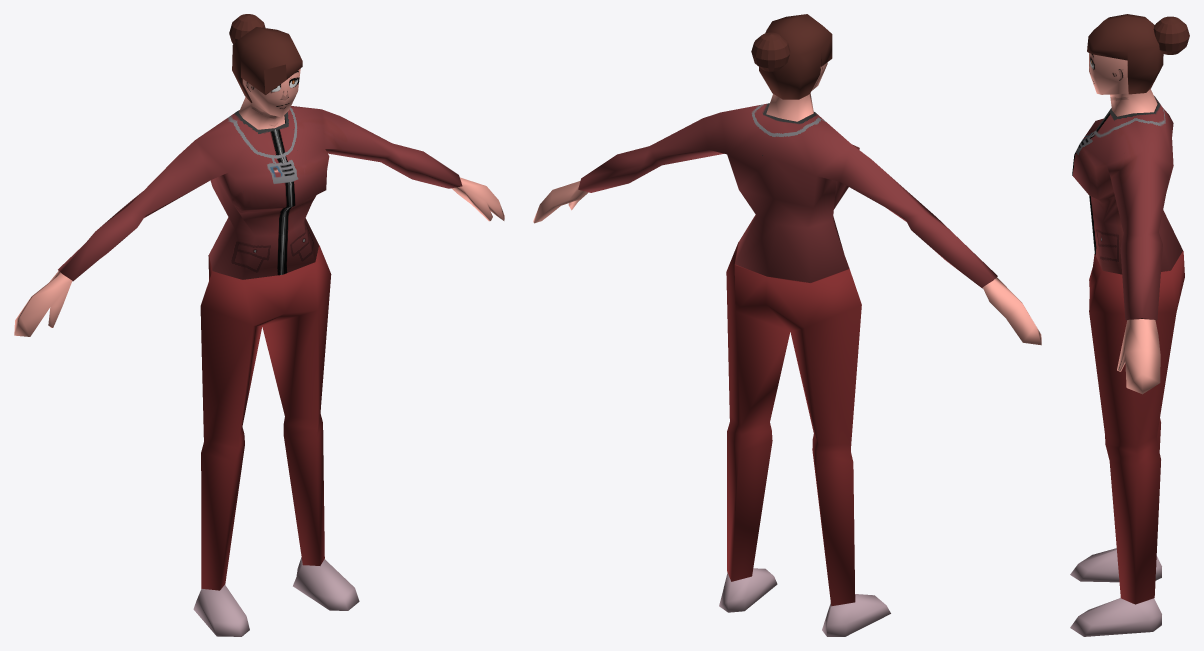
The model's file is Character attempt Female 1.fbx.
3 renders of one model, left to right at view 1: azimuth 30°, elevation 25°; view 2: azimuth 150°, elevation 25°; view 3: azimuth 270°, elevation 25°, orthographic. The views are drawn at different scales.
Parts seen in each view (by area): view 1: HumanoidBase_NotOverlapping.006, HumanoidBase_NotOverlapping.007, HumanoidBase_NotOverlapping.002, Shoes.003, HumanoidBase_NotOverlapping.008; view 2: HumanoidBase_NotOverlapping.006, HumanoidBase_NotOverlapping.007, HumanoidBase_NotOverlapping.008, HumanoidBase_NotOverlapping.002, Shoes.003, Sphere.003; view 3: HumanoidBase_NotOverlapping.006, HumanoidBase_NotOverlapping.007, HumanoidBase_NotOverlapping.002, Shoes.003, HumanoidBase_NotOverlapping.008, Sphere.003.
Part boxes in pixels (bbox=[...]): HumanoidBase_NotOverlapping.006: bbox=[200, 245, 331, 590]; HumanoidBase_NotOverlapping.007: bbox=[58, 106, 462, 281]; HumanoidBase_NotOverlapping.002: bbox=[14, 69, 504, 336]; Shoes.003: bbox=[193, 557, 359, 636]; HumanoidBase_NotOverlapping.008: bbox=[232, 27, 302, 102]; HumanoidBase_NotOverlapping.006: bbox=[726, 242, 861, 606]; HumanoidBase_NotOverlapping.007: bbox=[578, 103, 997, 288]; HumanoidBase_NotOverlapping.008: bbox=[759, 14, 832, 99]; HumanoidBase_NotOverlapping.002: bbox=[533, 62, 1041, 345]; Shoes.003: bbox=[719, 568, 890, 636]; Sphere.003: bbox=[751, 32, 790, 71]; HumanoidBase_NotOverlapping.006: bbox=[1089, 251, 1184, 604]; HumanoidBase_NotOverlapping.007: bbox=[1072, 96, 1182, 320]; HumanoidBase_NotOverlapping.002: bbox=[1089, 53, 1160, 394]; Shoes.003: bbox=[1070, 548, 1161, 636]; HumanoidBase_NotOverlapping.008: bbox=[1087, 14, 1163, 94]; Sphere.003: bbox=[1153, 16, 1189, 54].
Bounding box in the file's own units: 161 × 180 × 33.4.
5 materials, 2 textured.
